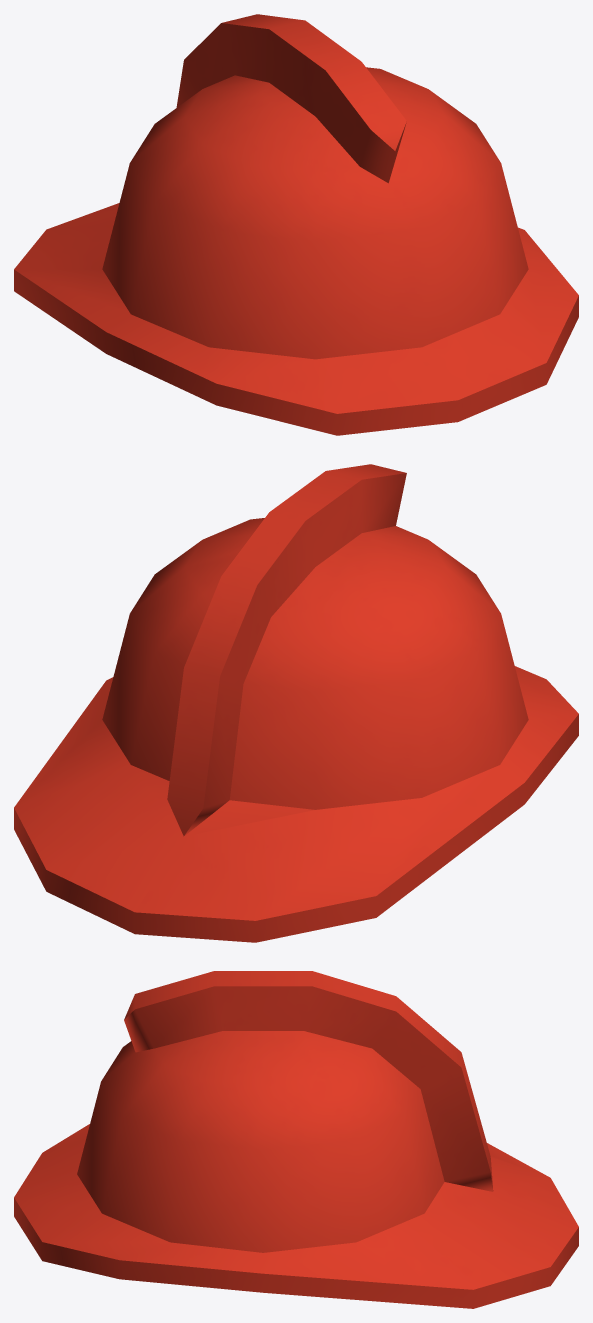
The model's file is Charakter_Fireman_cap.FBX.
The picture shows the model from 3 angles, top to bottom: view 1: azimuth 30°, elevation 25°; view 2: azimuth 150°, elevation 25°; view 3: azimuth 270°, elevation 25°; orthographic projection. The views are drawn at different scales.
Visible parts, largest first — view 1: Charakter_Fireman_cap; view 2: Charakter_Fireman_cap; view 3: Charakter_Fireman_cap.
Boxes of the visible parts, x1=… form: Charakter_Fireman_cap: x1=14, y1=14, x2=578, y2=435; Charakter_Fireman_cap: x1=14, y1=464, x2=578, y2=942; Charakter_Fireman_cap: x1=14, y1=971, x2=578, y2=1308.
Size of the model in its own units: 153 by 205 by 107.
